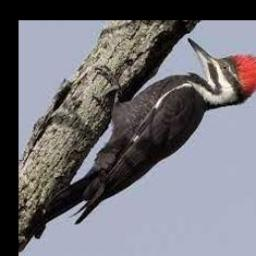Woodpecker: (21, 38, 256, 239)
